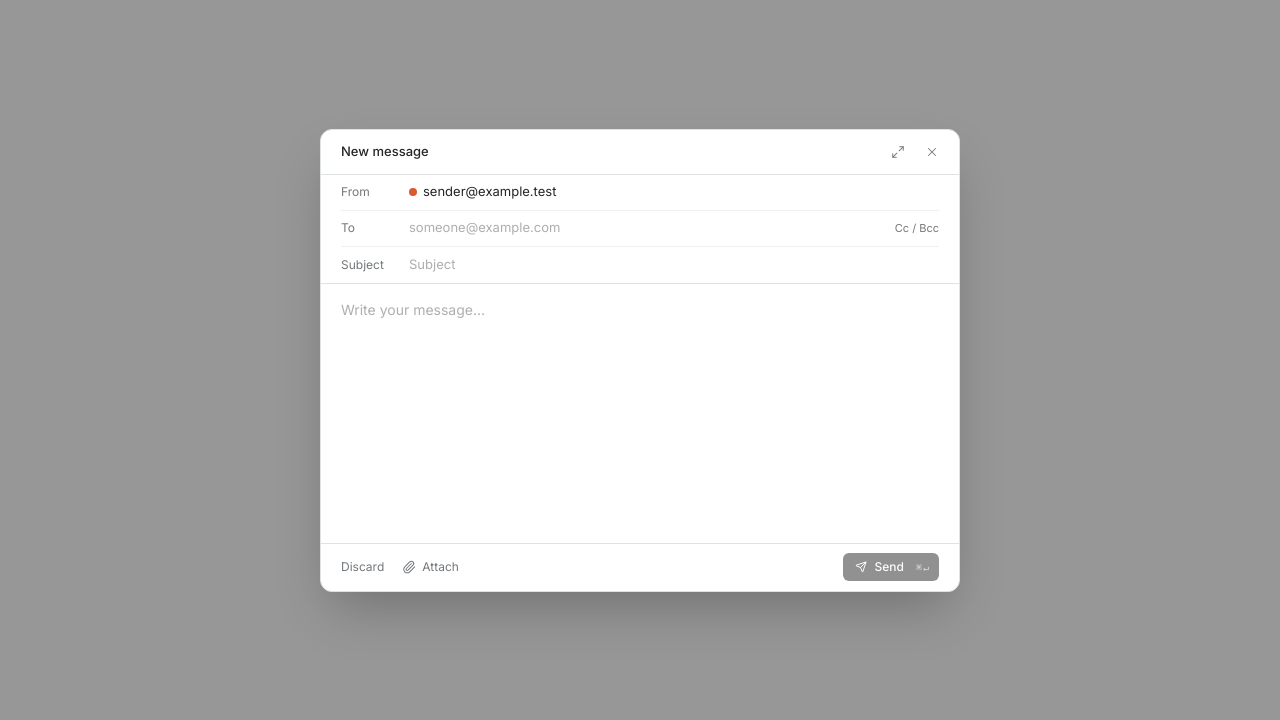
Test case: ComposeDialog › keeps the composer open when the final draft save fails
Type "Unsaved synthetic edit" into the field with placeholder "Subject" at point(674, 265), box x1=409 y1=255 x2=939 y2=274
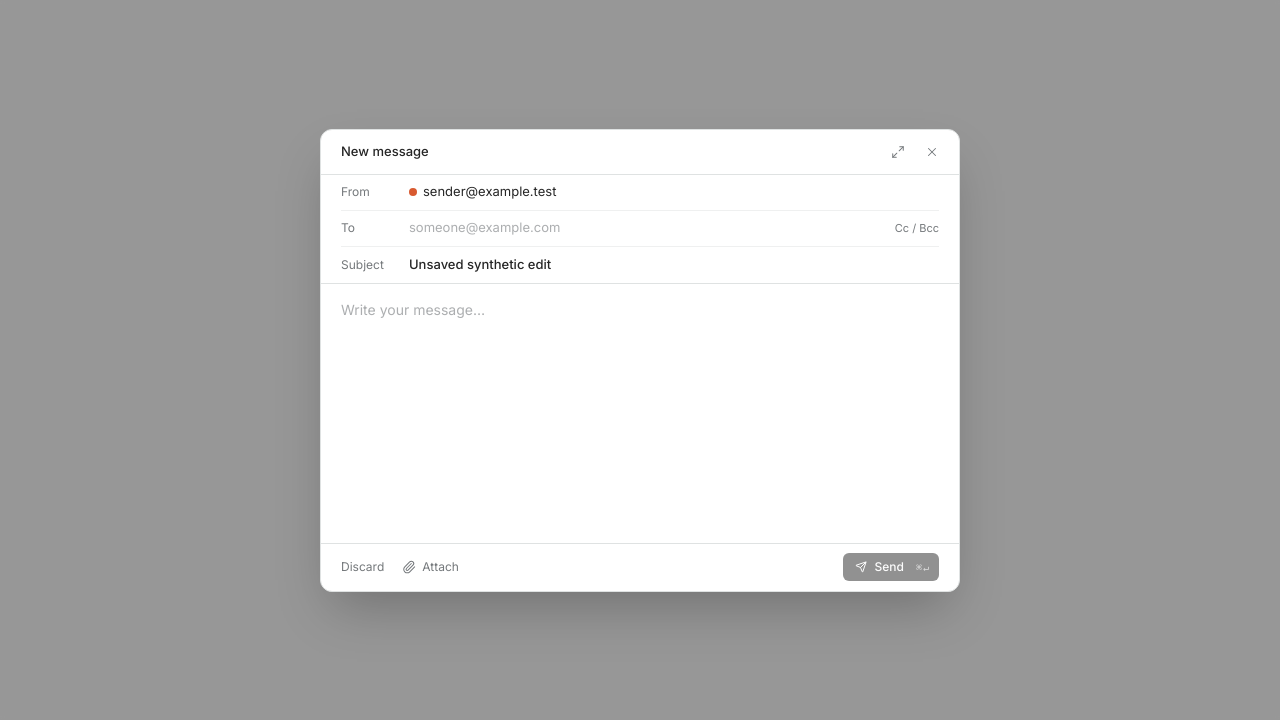
Click the button named "Close" at point(932, 152), box x1=921 y1=140 x2=943 y2=162
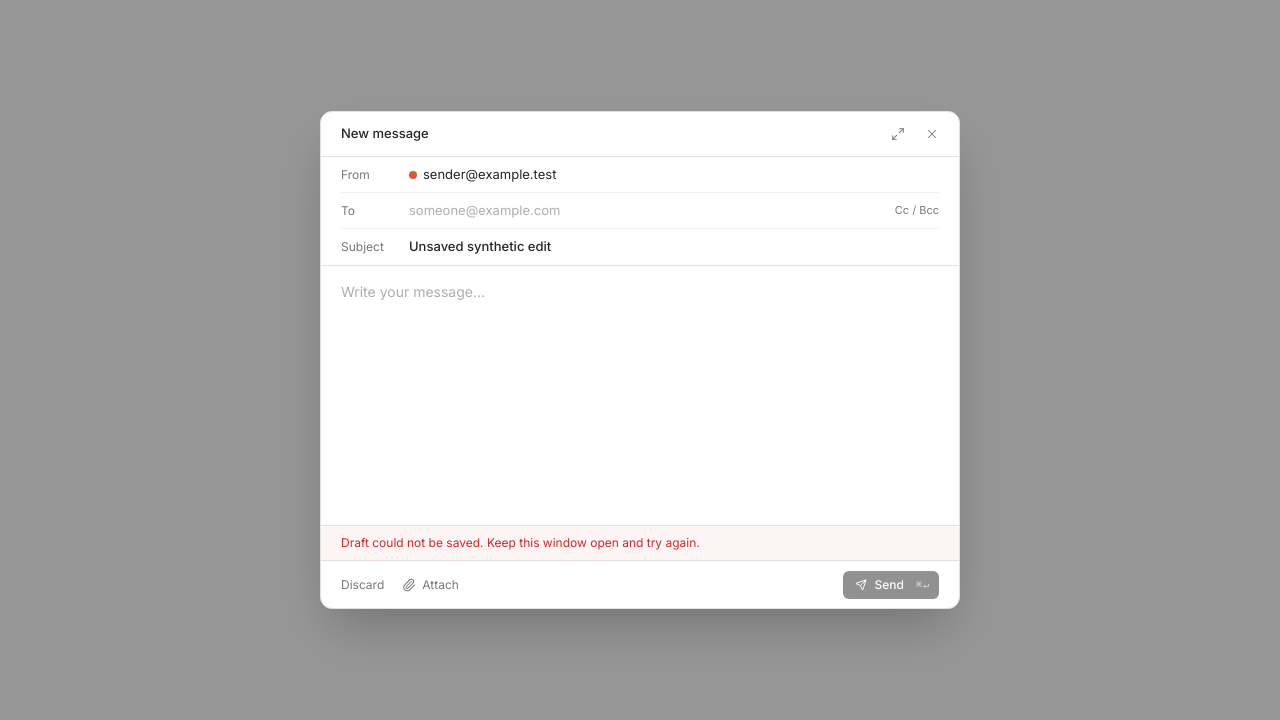
Now the text "Draft could not be saved. Keep this window open and try again." is shown, box x1=321 y1=525 x2=959 y2=560
